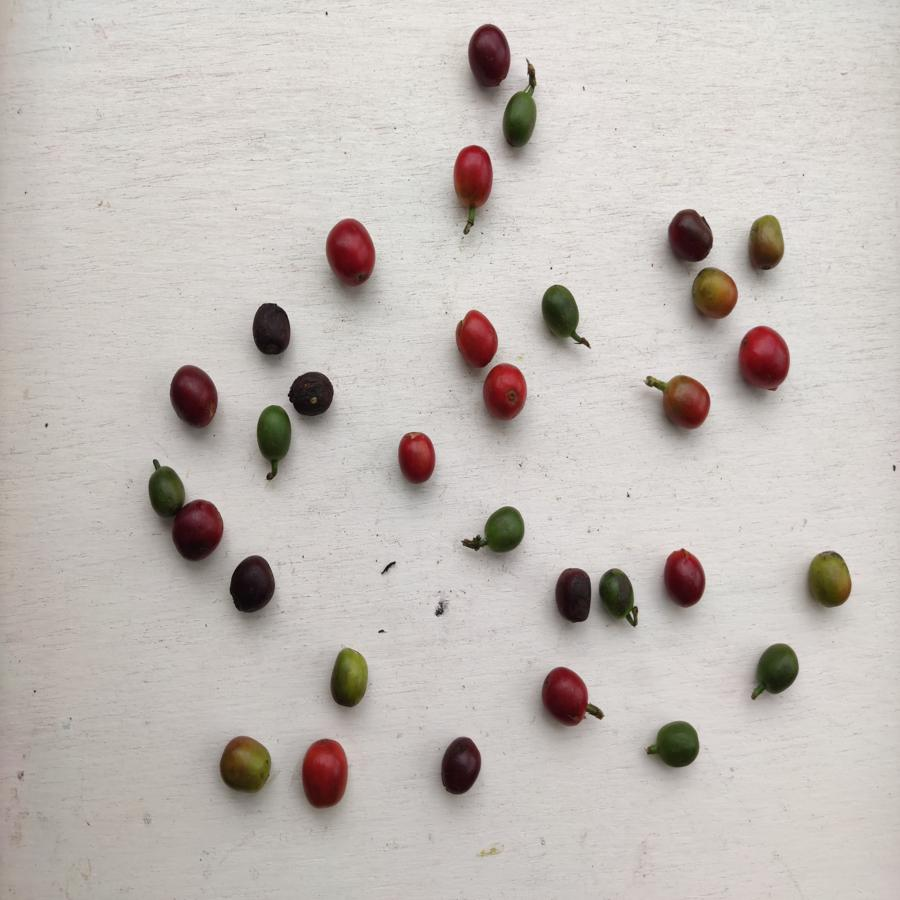Inmaduro: (536, 278, 588, 347), (596, 565, 644, 629), (496, 92, 542, 153), (473, 502, 525, 555), (751, 642, 802, 696), (654, 719, 706, 769), (139, 458, 184, 513), (255, 405, 292, 461)
Maduro: (298, 735, 355, 809), (322, 218, 380, 288), (735, 325, 792, 392), (455, 307, 504, 368), (478, 362, 530, 419), (450, 144, 494, 207), (395, 428, 440, 482)
Pinton: (216, 732, 274, 793), (659, 374, 714, 432), (803, 549, 854, 611), (327, 644, 373, 709), (689, 265, 741, 316), (746, 212, 788, 274)
Sobremaduro: (432, 730, 484, 797), (166, 363, 221, 425), (468, 18, 514, 89), (169, 496, 220, 560), (227, 552, 277, 615), (540, 663, 588, 726), (662, 548, 709, 610), (247, 300, 295, 359), (551, 560, 594, 625), (668, 208, 714, 264), (287, 370, 336, 421)
